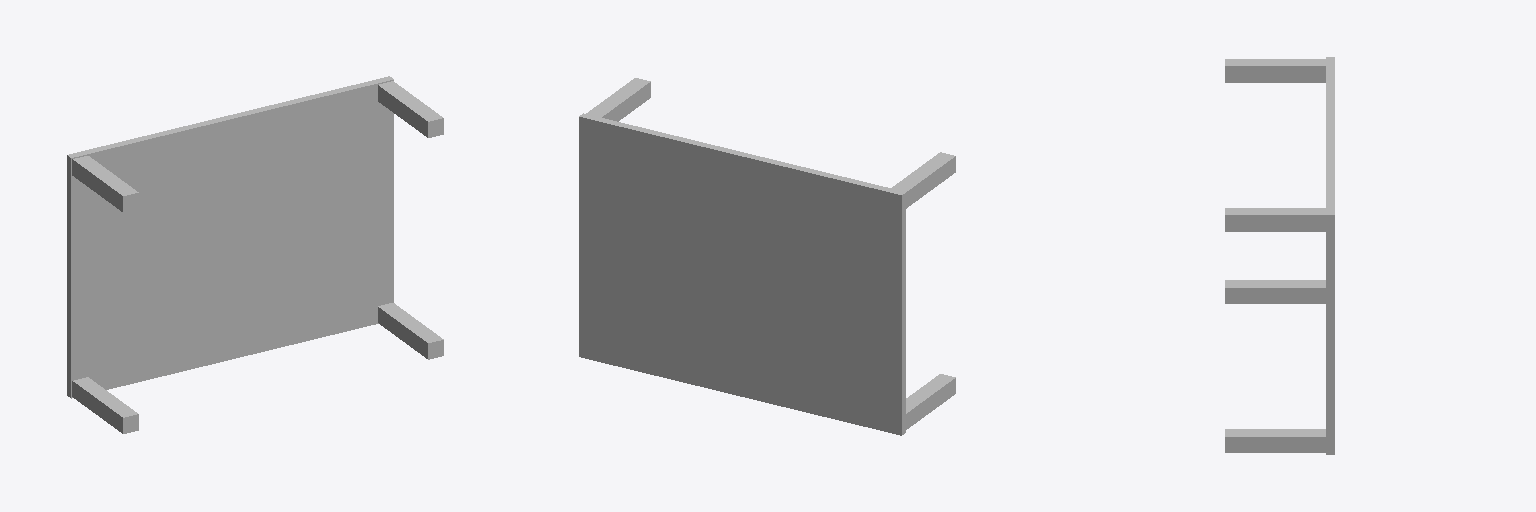
The model's file is random_table44.obj.
3 renders of one model, left to right at view 1: azimuth 30°, elevation 25°; view 2: azimuth 150°, elevation 25°; view 3: azimuth 270°, elevation 25°, orthographic.
Parts seen in each view (by area): view 1: Table_Cube.415, TableLeg1_Cube.417, TableLeg3_Cube.419, TableLeg0_Cube.416, TableLeg2_Cube.418; view 2: Table_Cube.415, TableLeg1_Cube.417, TableLeg3_Cube.419, TableLeg0_Cube.416; view 3: Table_Cube.415, TableLeg0_Cube.416, TableLeg1_Cube.417, TableLeg2_Cube.418, TableLeg3_Cube.419.
Part boxes in pixels (left/top/right/bottom): Table_Cube.415: left=67, top=76, right=393, bottom=398; TableLeg1_Cube.417: left=72, top=156, right=138, bottom=212; TableLeg3_Cube.419: left=72, top=377, right=138, bottom=433; TableLeg0_Cube.416: left=378, top=81, right=443, bottom=137; TableLeg2_Cube.418: left=378, top=303, right=443, bottom=359; Table_Cube.415: left=579, top=113, right=905, bottom=435; TableLeg1_Cube.417: left=892, top=152, right=955, bottom=208; TableLeg3_Cube.419: left=906, top=374, right=955, bottom=429; TableLeg0_Cube.416: left=586, top=78, right=650, bottom=121; Table_Cube.415: left=1326, top=57, right=1334, bottom=454; TableLeg0_Cube.416: left=1225, top=208, right=1325, bottom=231; TableLeg1_Cube.417: left=1225, top=59, right=1325, bottom=82; TableLeg2_Cube.418: left=1225, top=429, right=1325, bottom=452; TableLeg3_Cube.419: left=1225, top=280, right=1325, bottom=303.
Size of the model in its own units: 10.2 by 7.25 by 3.02.